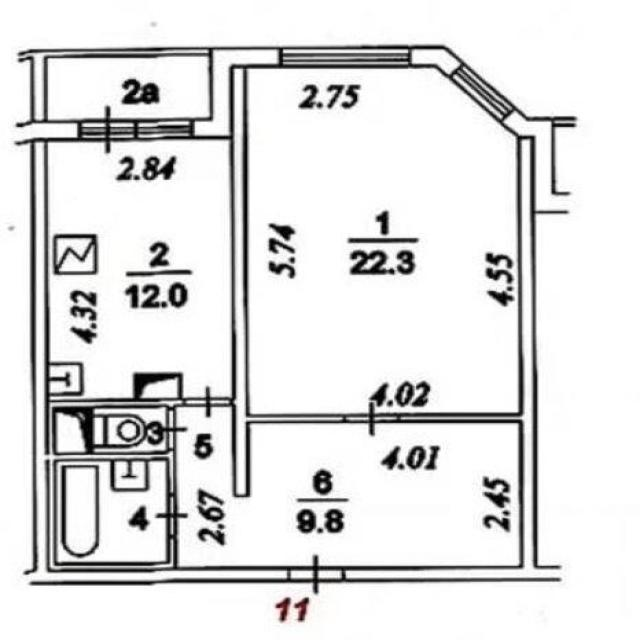Bathrooms: (56, 463, 165, 560), (55, 409, 165, 450)
Corridors: (179, 408, 518, 566), (48, 57, 207, 117)
Doors: (77, 105, 134, 155), (290, 554, 346, 596), (344, 400, 400, 437), (184, 384, 233, 419), (155, 494, 190, 538), (155, 408, 190, 449)
LBwalls: (194, 45, 279, 141), (501, 107, 570, 214), (15, 118, 78, 146), (414, 44, 464, 76)
Offices: (249, 68, 517, 414), (49, 142, 233, 397)
Walls: (24, 142, 289, 586), (344, 138, 560, 582), (233, 67, 345, 497), (16, 47, 209, 120), (554, 115, 578, 128)
Windows: (449, 63, 517, 122), (279, 46, 412, 69), (135, 118, 195, 140)
